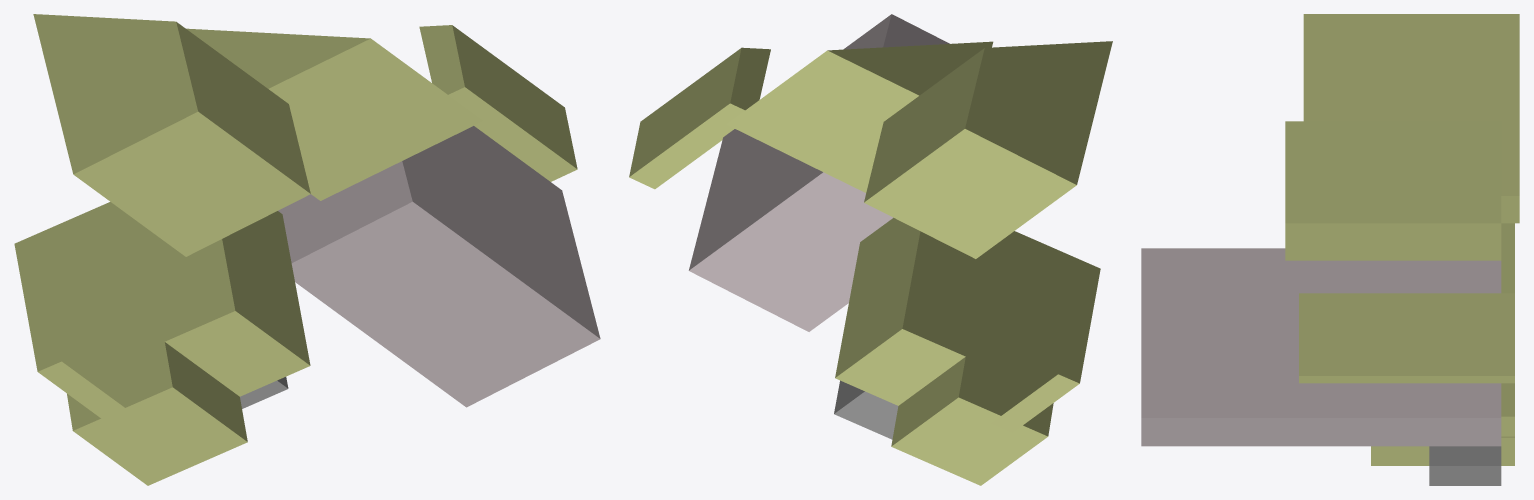
The picture shows the model from 3 angles, left to right: view 1: azimuth 30°, elevation 25°; view 2: azimuth 150°, elevation 25°; view 3: azimuth 270°, elevation 25°; orthographic projection. The views are drawn at different scales.
Parts seen in each view (by area): view 1: 0_1_3_2_2_2_0_1_2_3; view 2: 0_1_3_2_2_2_0_1_2_3; view 3: 0_1_3_2_2_2_0_1_2_3.
Boxes of the visible parts, x1,y1,x2,y2 form: 0_1_3_2_2_2_0_1_2_3: (14, 14, 600, 485); 0_1_3_2_2_2_0_1_2_3: (629, 14, 1112, 485); 0_1_3_2_2_2_0_1_2_3: (1141, 14, 1519, 485).
Bounding box in the file's own units: 20.77 × 18.69 × 15.77.
